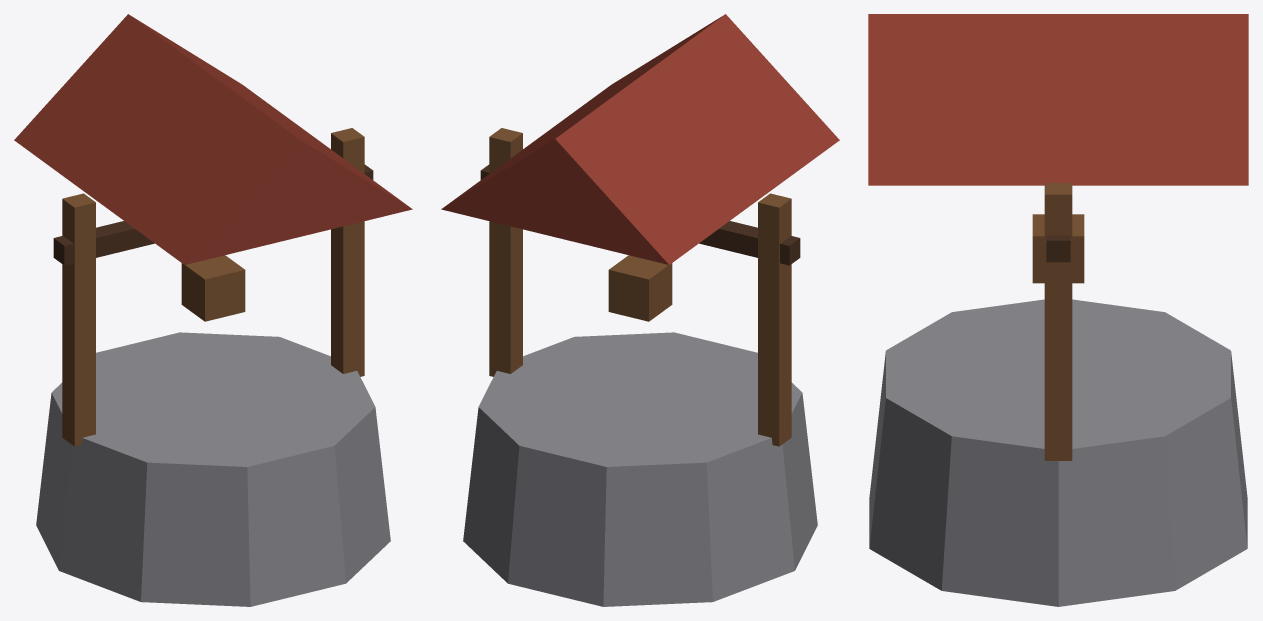
File: well.obj
3 views of the same model, side by side, from view 1: azimuth 30°, elevation 25°; view 2: azimuth 150°, elevation 25°; view 3: azimuth 270°, elevation 25° (orthographic). The views are drawn at different scales.
Visible parts, largest first — view 1: well; view 2: well; view 3: well.
Part boxes in pixels (bbox=[...]): well: bbox=[14, 14, 412, 606]; well: bbox=[441, 14, 839, 606]; well: bbox=[868, 14, 1248, 606].
Size of the model in its own units: 2.3 by 3.25 by 2.2.
